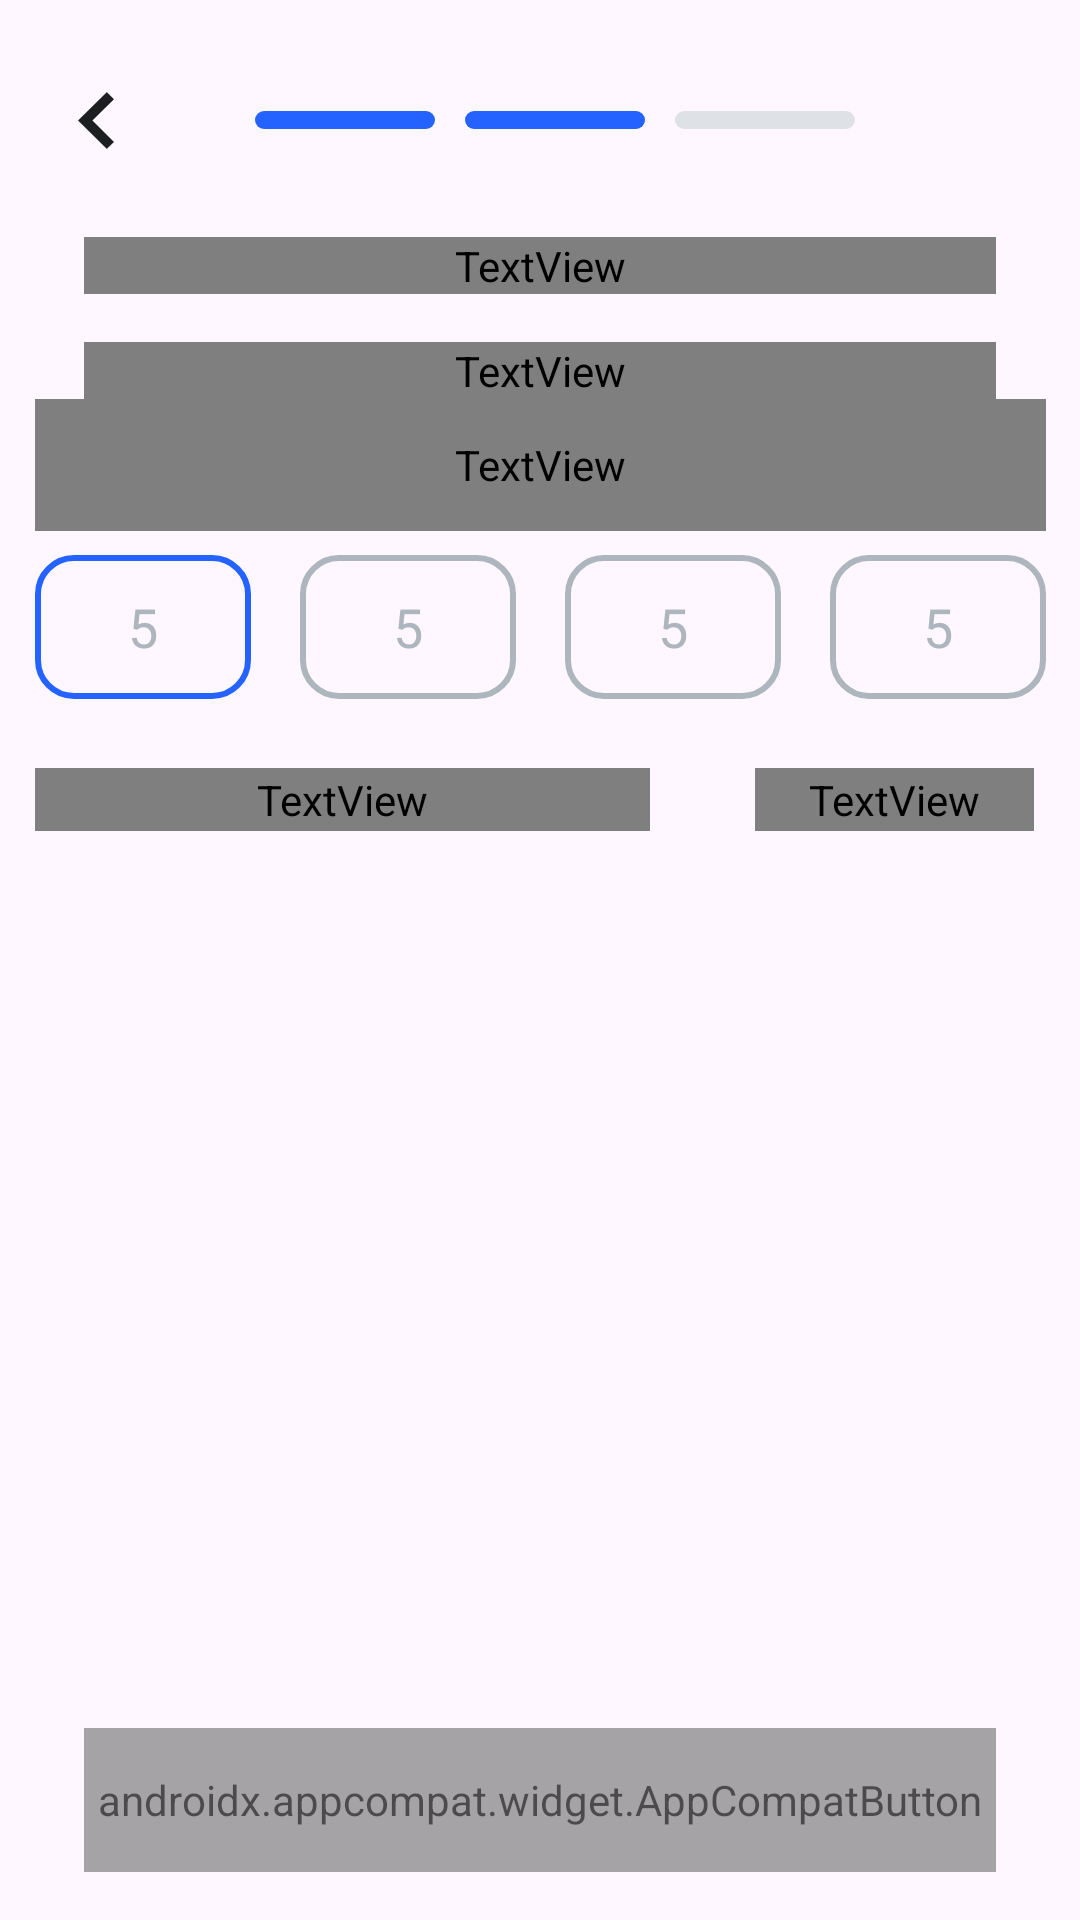

Locate icon controls on the screen. Image size 1080w x 1920h, boxes as region(x1, y1, x2, y2).
arrow back: region(78, 92, 114, 149)
